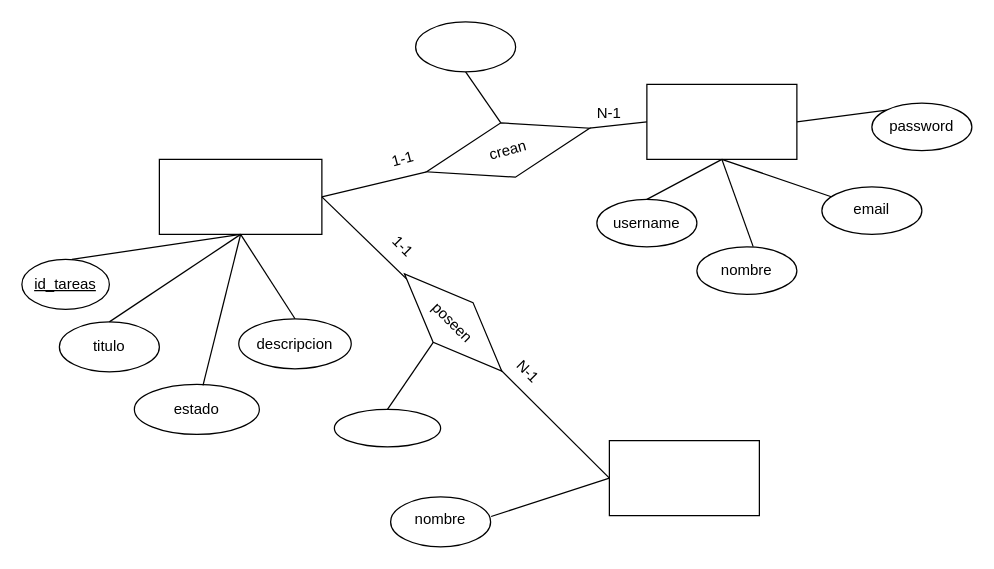
This 994x569 diagram has some shape labels left out. The box of each missing label's shape, as (x1, y1, x2, y2) in pixels:
Categorias: (608, 439, 759, 516)
id_categoria: (333, 408, 441, 447)
id_usuario: (414, 21, 516, 72)
Tareas: (158, 158, 322, 234)
Usuarios: (646, 83, 797, 159)
